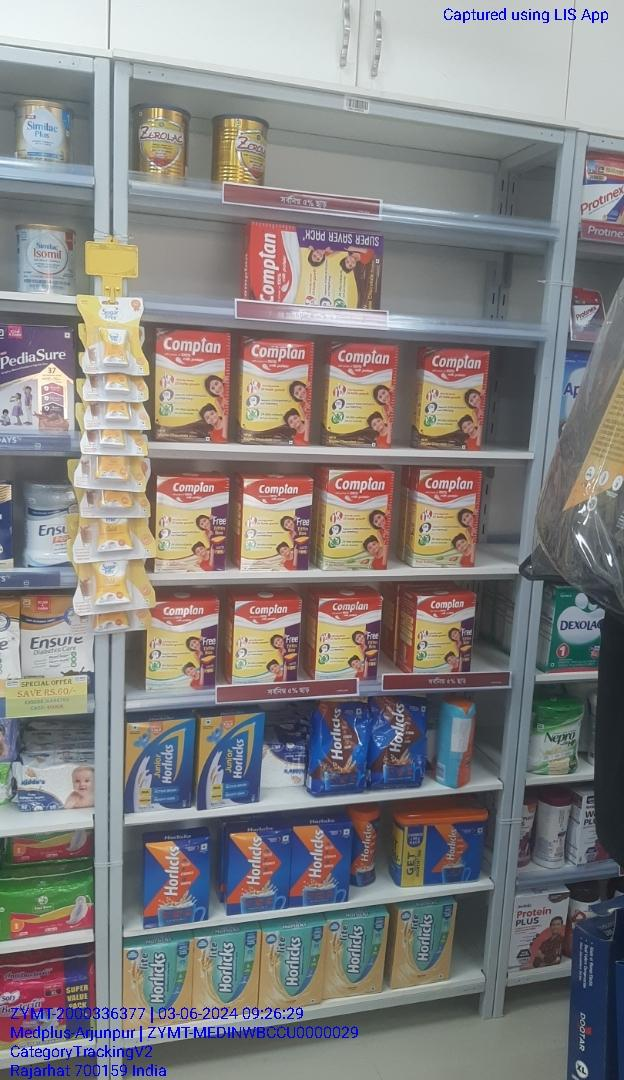HORLICK_CHOCOLATE_750_G_POUCH: (315, 699, 366, 795), (371, 697, 424, 784)
HORLICK_CLASSIC_MALT_200_G_JAR: (352, 807, 378, 887)
HORLICK_CLASSIC_MALT_500_G_PACK: (145, 840, 211, 923), (292, 825, 350, 907), (230, 831, 288, 910)
HORLICK_MALT_1_KG_CONTAINER: (395, 810, 489, 886)
